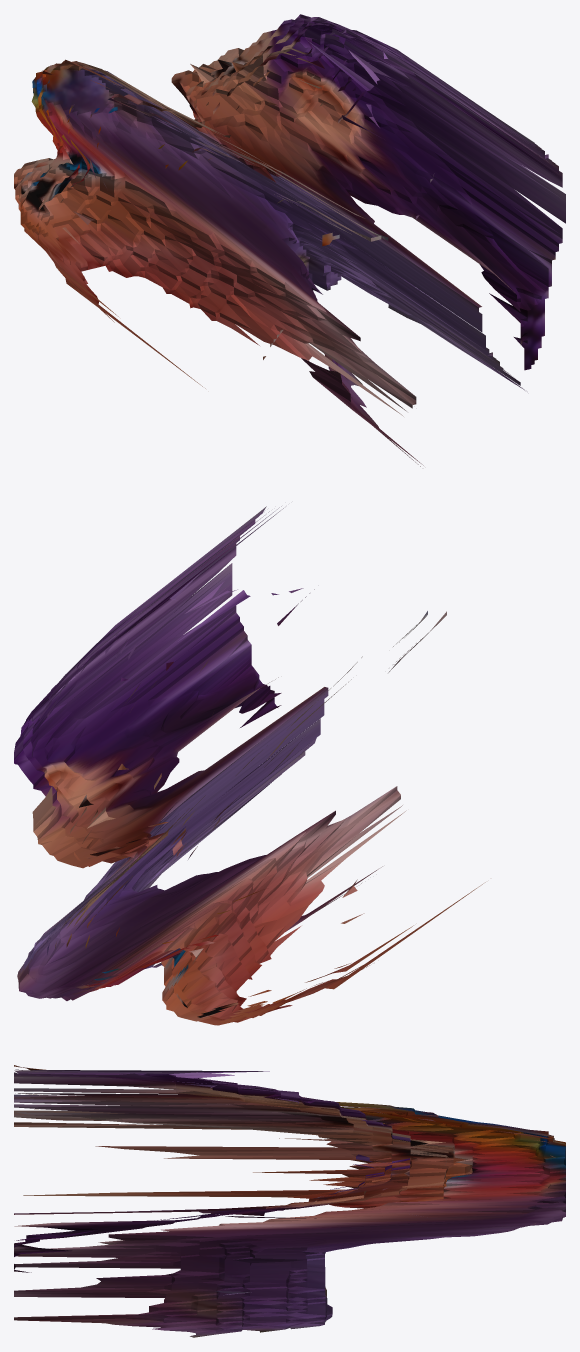
File: frame_00008.glb
3 views of the same model, one above another, from view 1: azimuth 30°, elevation 25°; view 2: azimuth 150°, elevation 25°; view 3: azimuth 270°, elevation 25° (orthographic). The views are drawn at different scales.
Visible parts, largest first — view 1: geometry_0; view 2: geometry_0; view 3: geometry_0.
Boxes of the visible parts, x1,y1,x2,y2 form: geometry_0: (14,14,565,466); geometry_0: (14,506,485,1025); geometry_0: (14,1065,565,1337).
Size of the model in its own units: 0.0882 by 0.0853 by 0.16.
Materials: 1 (1 with a texture image).
